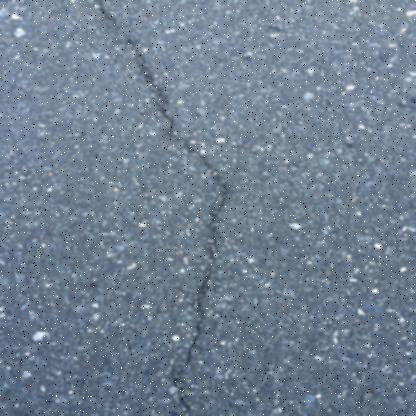Cracks: (91, 0, 237, 415)
